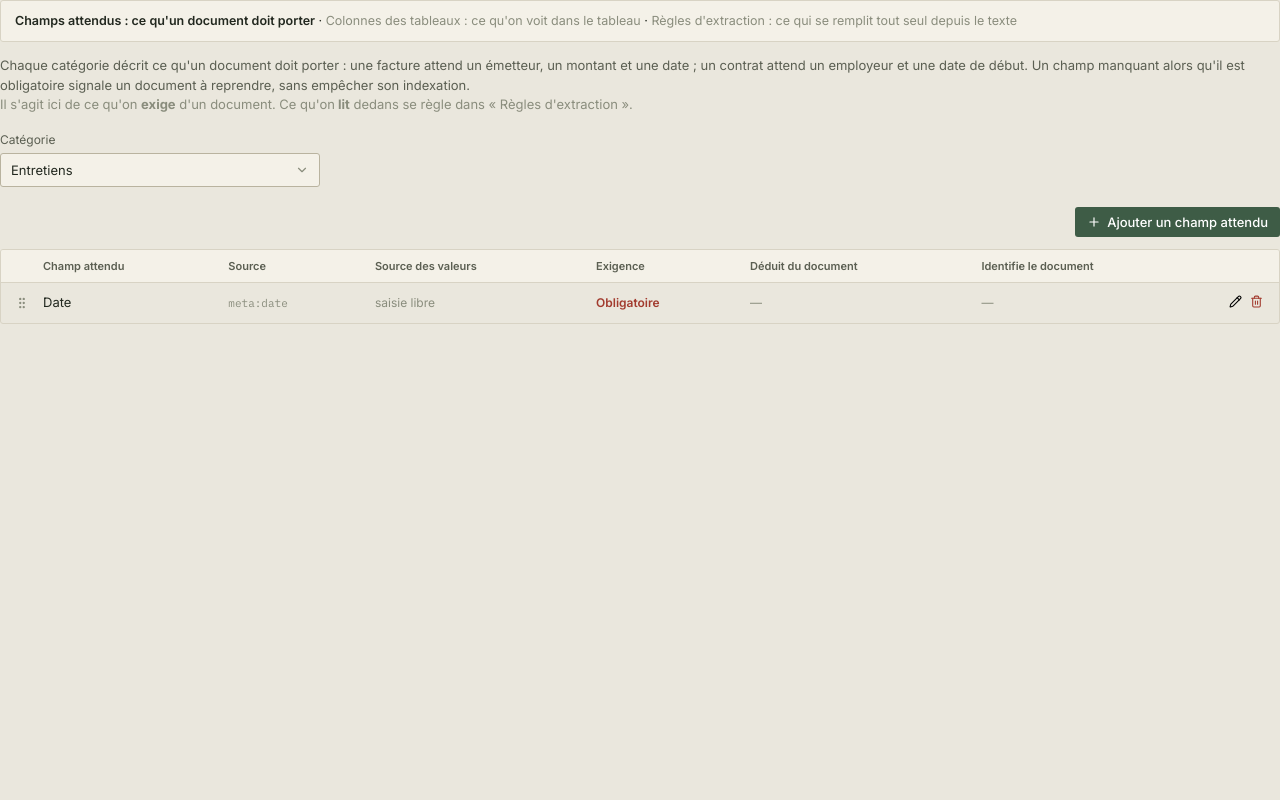
it: les champs attendus d'une catégorie › ouvre la modification sur ce qui avait été paramétré
This screenshot has width=1280, height=800.
Click the button named "Modifier" at [1236, 303], box left=1225, top=291, right=1246, bottom=315
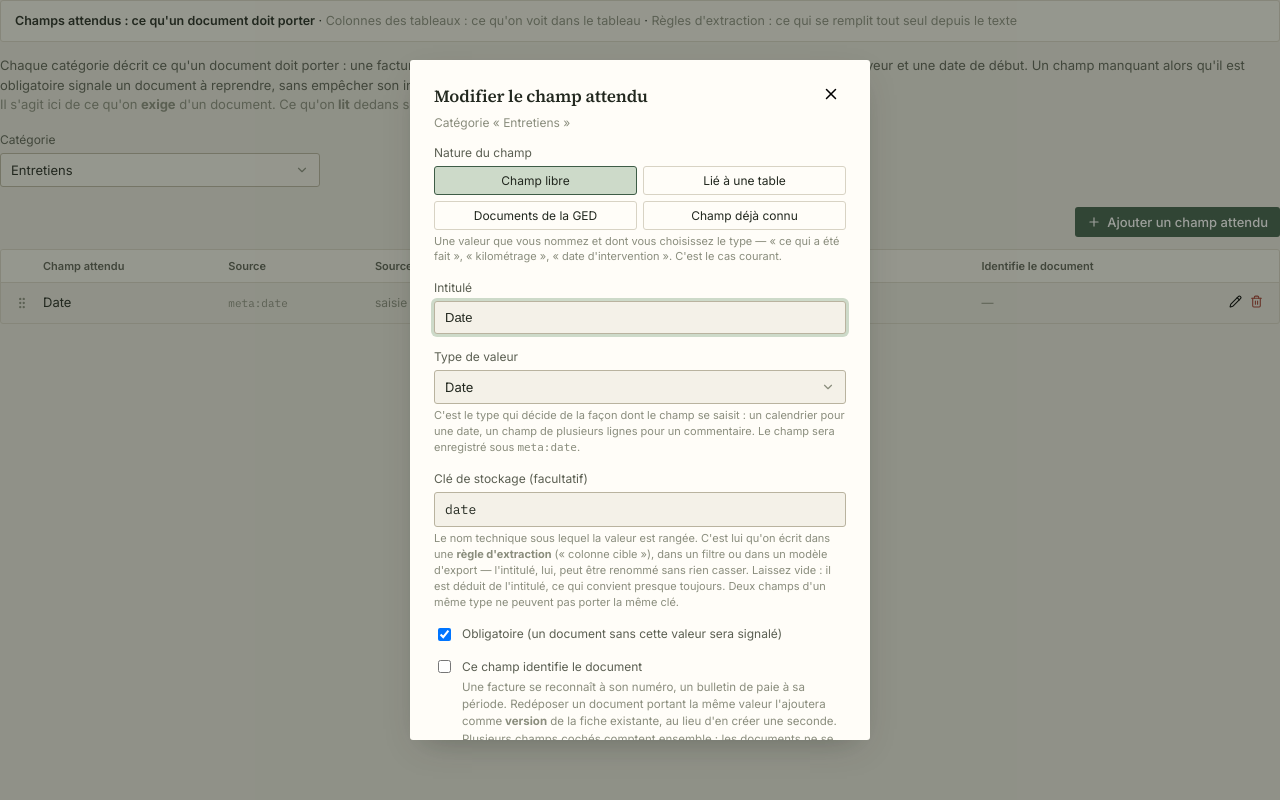
Expected: the field showing "Date" is shown, left=434, top=301, right=846, bottom=334
Expected: the field named "Clé de stockage" holds "date", left=434, top=492, right=846, bottom=527
Expected: the button with aria-label "Type de valeur" reads "Date", left=434, top=370, right=846, bottom=404
